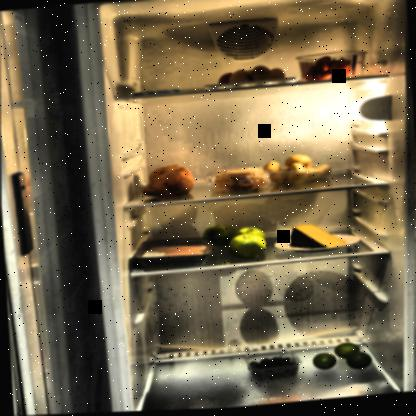apple: (200, 221, 269, 266)
blueberries: (244, 348, 304, 385)
cheese: (286, 221, 348, 255)
chicken: (130, 235, 215, 271)
chocolate: (131, 89, 181, 98)
eggs: (215, 64, 288, 91)
lime: (310, 341, 375, 378)
potato: (259, 154, 336, 190)
strawberries: (299, 53, 364, 85)
sweet_potato: (138, 162, 196, 200)
